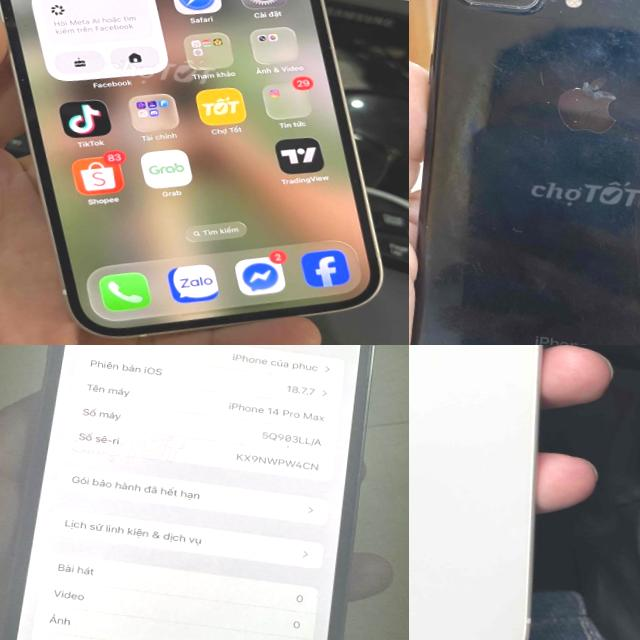gen_12_13: (409, 345, 541, 640)
gen_14: (0, 0, 409, 345), (0, 345, 393, 640)
gen_7_8: (409, 0, 640, 345)
scratch: (428, 0, 640, 36), (480, 50, 564, 109), (563, 72, 626, 130)
